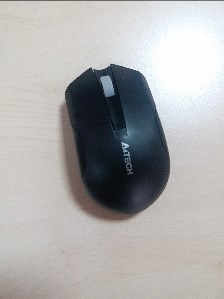mouse: (62, 62, 168, 221)
